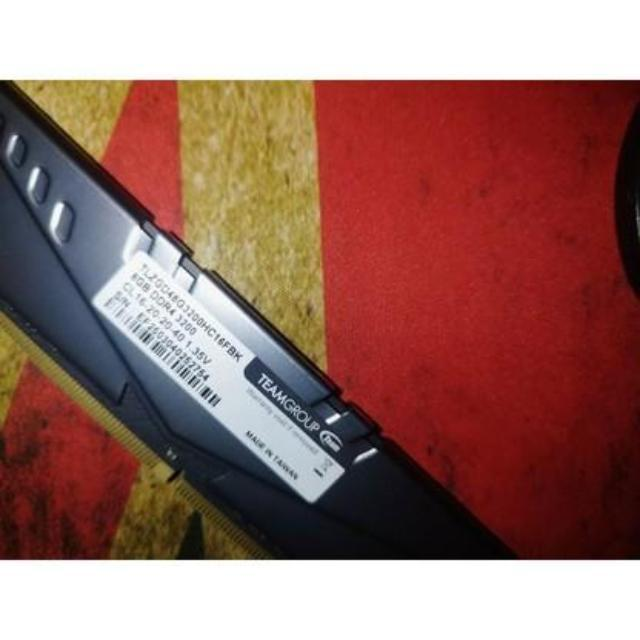RAM: (0, 73, 525, 561)
